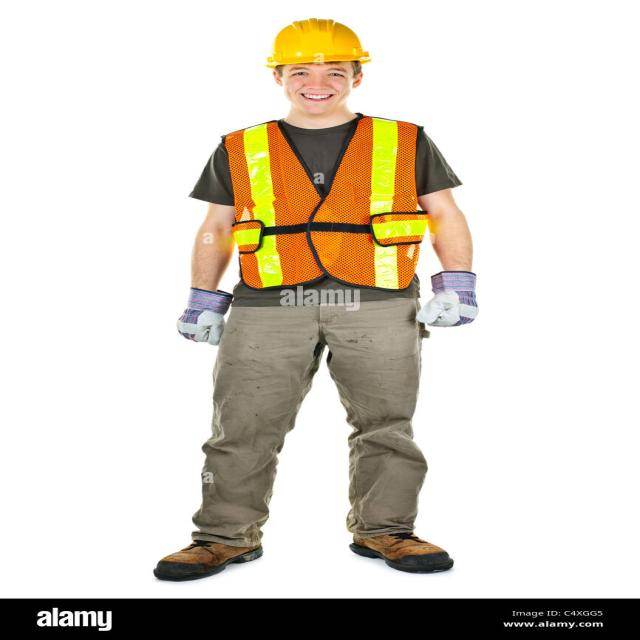Boots: (139, 517, 466, 582)
Gloves: (411, 269, 489, 330), (170, 286, 242, 351)
Hard Hat: (263, 16, 377, 72)
Reflective Vest: (223, 113, 444, 296)
